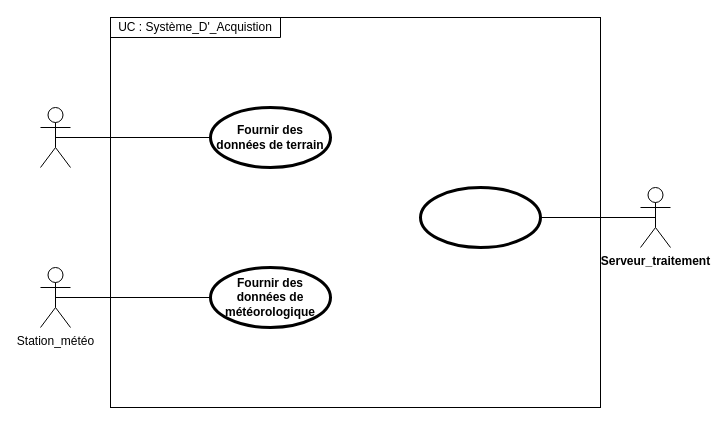
The diagram is 727 pixels wide and 425 high, and some of its shapes have lost their labels. Each missing label, with the centre of its shape:
Archiver les données brutes: [480,217]
Robot: [55,137]
